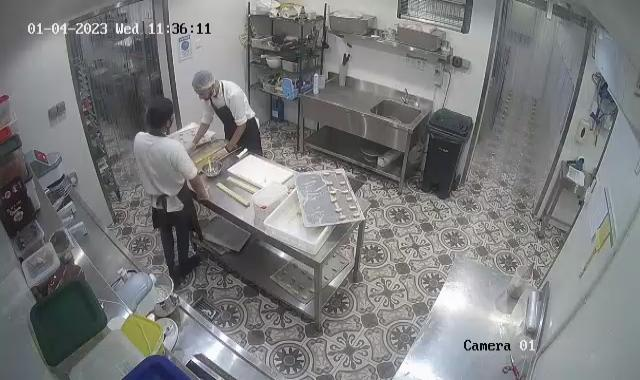hairnet: (192, 67, 218, 94)
no_hairnet: (146, 97, 176, 128)
